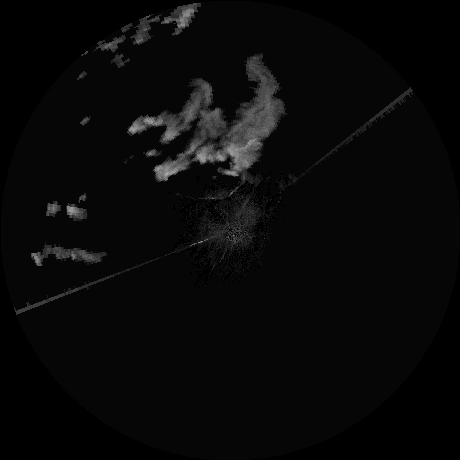frontgust: (205, 173, 247, 201)
